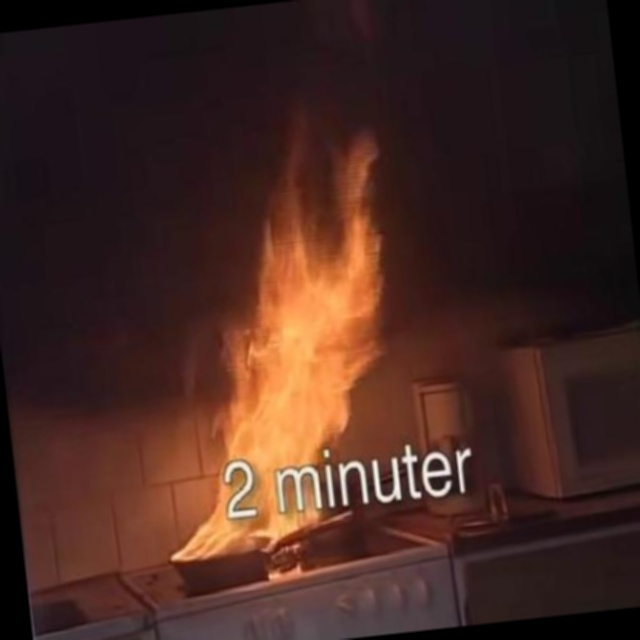fire: (115, 134, 414, 600)
